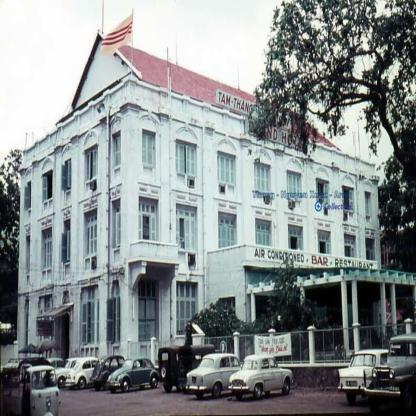Car: (364, 332, 416, 414), (230, 360, 303, 406), (186, 352, 248, 397), (334, 350, 387, 401), (158, 346, 212, 389), (105, 355, 158, 392), (88, 354, 134, 390), (49, 357, 89, 390), (66, 355, 104, 389)
